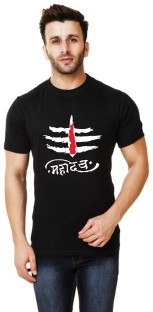Tshirts: (6, 73, 153, 261)
